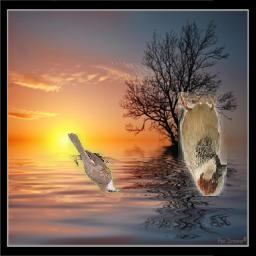Cuckoo: (68, 133, 122, 193)
Sparrow: (179, 92, 228, 196)
